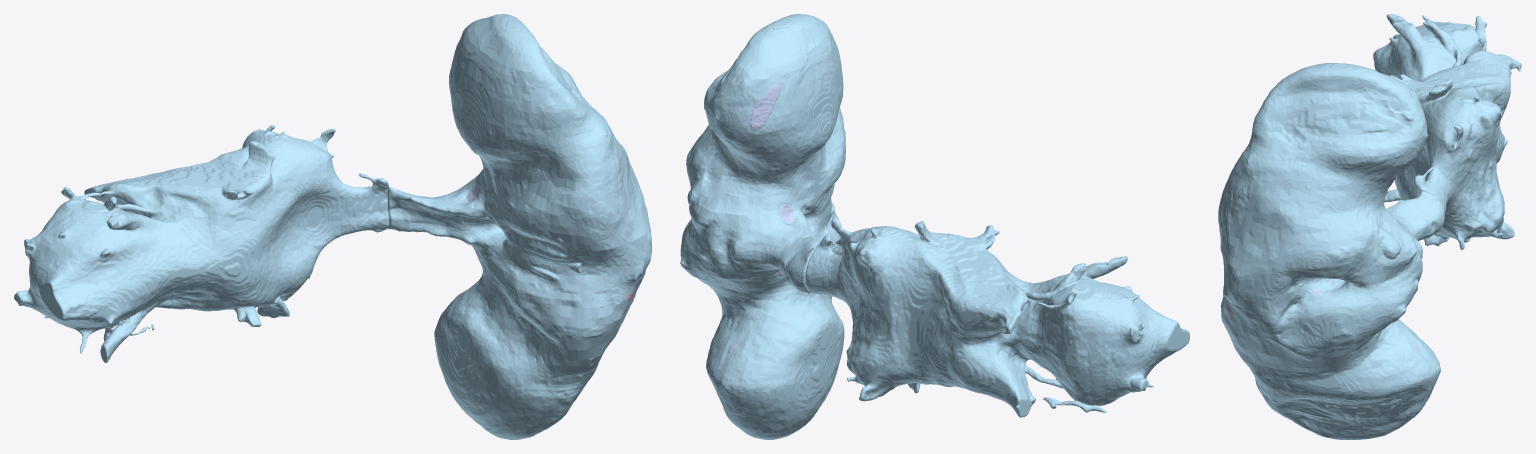
Rendered from cns.glb.
The picture shows the model from 3 angles, left to right: view 1: azimuth 30°, elevation 25°; view 2: azimuth 150°, elevation 25°; view 3: azimuth 270°, elevation 25°; orthographic projection. The views are drawn at different scales.
Parts seen in each view (by area): view 1: brain, vnc; view 2: brain, vnc, ME(L); view 3: brain, vnc.
Part boxes in pixels (x1,y1,x2,y2): brain: [387, 14, 651, 439]; vnc: [14, 125, 389, 362]; brain: [680, 14, 845, 439]; vnc: [805, 216, 1189, 417]; ME(L): [749, 83, 781, 130]; brain: [1218, 63, 1444, 439]; vnc: [1373, 14, 1521, 249].
Size of the model in its own units: 0.9963 by 0.7331 by 0.5379.
